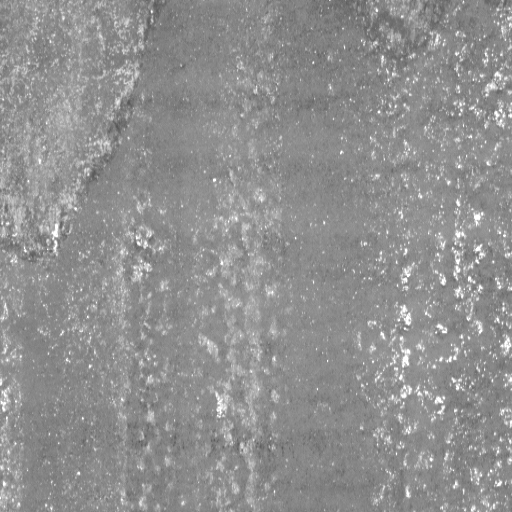qiaopi: (1, 1, 159, 255)
